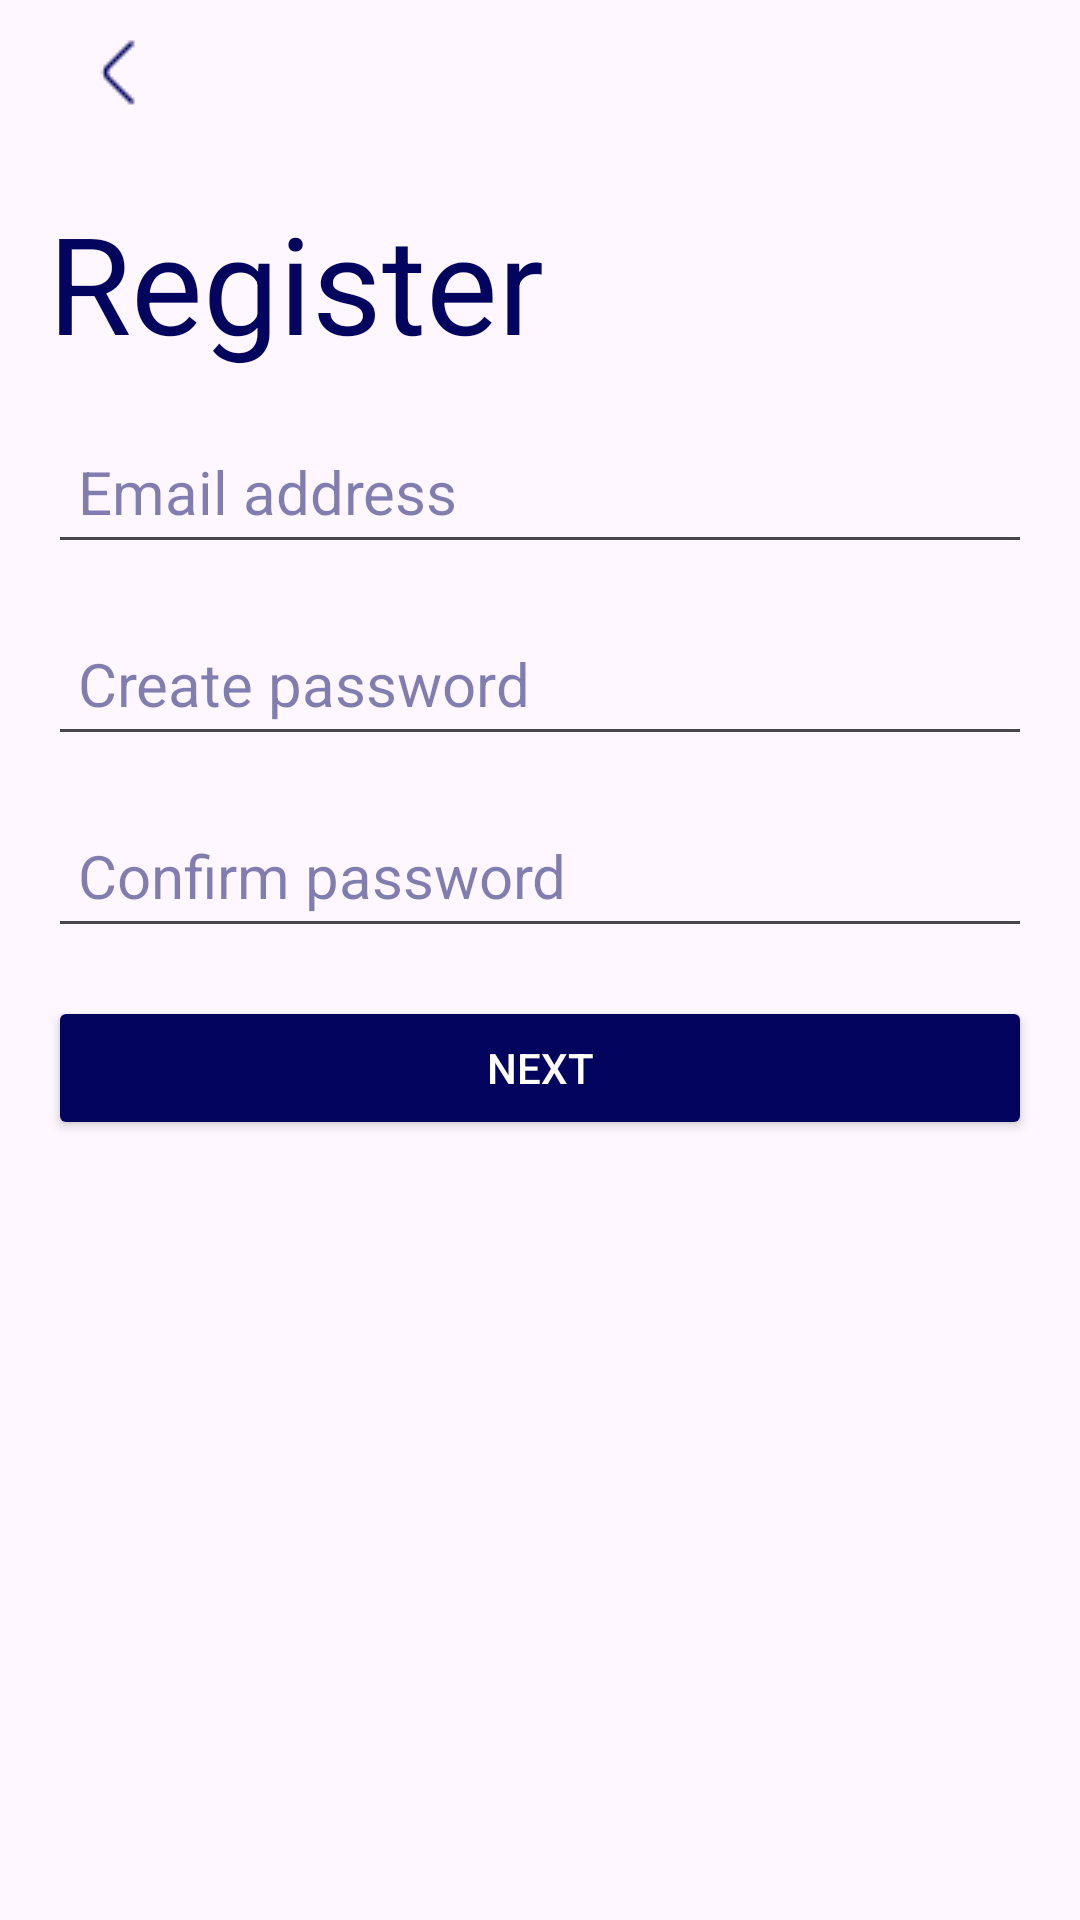

Screen size 1080x1920. Icon name, then its center in pixels as point (x, y):
Retour: point (118, 72)
